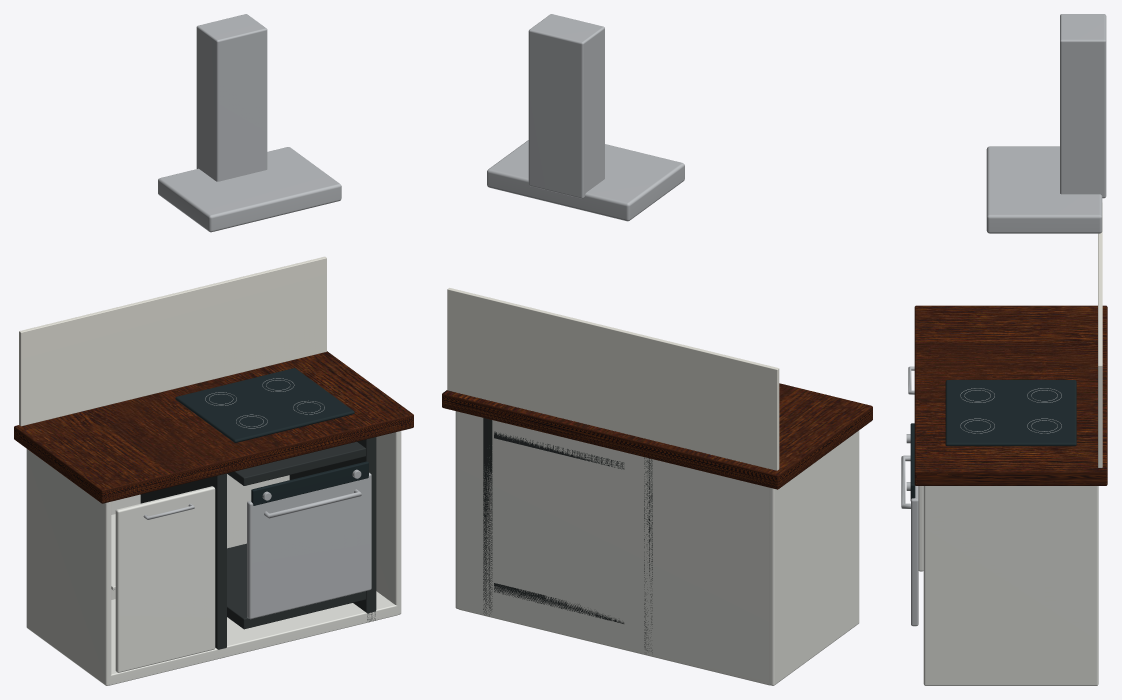
The model's file is kitchen.gltf.
3 views of the same model, side by side, from view 1: azimuth 30°, elevation 25°; view 2: azimuth 150°, elevation 25°; view 3: azimuth 270°, elevation 25° (orthographic). The views are drawn at different scales.
Parts seen in each view (by area): view 1: Backsplash, Oak countertop, Lower cabinet front, Counter cabinet side, Oven frame, Hood chimney, Range hood, Ceramic cooktop, Counter cabinet bottom, Counter cabinet side.001, Oven side, Oven floor (+4 smaller); view 2: Counter cabinet back, Backsplash, Counter cabinet side, Hood chimney, Oak countertop, Range hood, Oven side.001, Counter cabinet side.001, Oven floor, Counter cabinet bottom, Oven ceiling, Oven side; view 3: Counter cabinet side.001, Oak countertop, Ceramic cooktop, Hood chimney, Range hood, Backsplash, Oven frame, Lower cabinet front, Oven control panel, Oven handle.
Boxes of the visible parts, x1,y1,x2,y2 form: Backsplash: (19,256,326,426); Oak countertop: (14,351,413,503); Lower cabinet front: (115,486,215,672); Counter cabinet side: (26,449,111,685); Oven frame: (247,472,371,619); Hood chimney: (196,14,267,181); Range hood: (158,147,341,232); Ceramic cooktop: (175,368,354,442); Counter cabinet bottom: (109,591,398,685); Counter cabinet side.001: (376,431,401,614); Oven side: (140,473,226,649); Oven floor: (227,543,365,629); Counter cabinet back: (459,412,770,685); Backsplash: (447,288,779,470); Counter cabinet side: (769,430,859,685); Hood chimney: (528,14,604,198); Oak countertop: (442,383,872,489); Range hood: (487,140,684,221); Oven side.001: (483,418,492,615); Counter cabinet side.001: (455,411,459,609); Oven floor: (494,583,624,623); Counter cabinet bottom: (459,606,769,684); Oven ceiling: (494,431,624,469); Oven side: (644,457,652,652); Counter cabinet side.001: (923,486,1098,685); Oak countertop: (914,305,1107,485); Ceramic cooktop: (945,380,1076,446); Hood chimney: (1060,14,1106,198); Range hood: (986,146,1102,233); Backsplash: (1098,203,1102,467); Oven frame: (911,486,918,626); Lower cabinet front: (918,486,923,571); Oven control panel: (910,423,915,500); Oven handle: (901,455,910,508).
Size of the model in its own units: 1.53 by 2.61 by 0.8018.
Materials: 6 (1 with a texture image).
